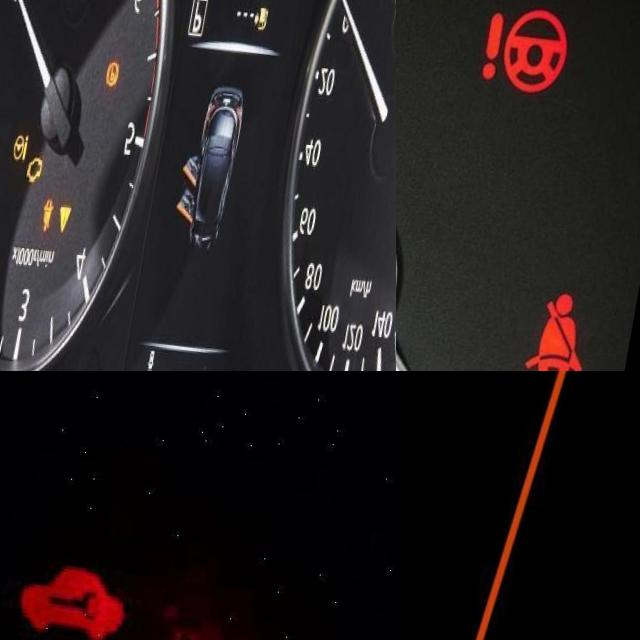Electronic Power Steering: (486, 0, 576, 79), (24, 130, 46, 158)
Seat Belt: (542, 277, 607, 371), (52, 191, 77, 231)
